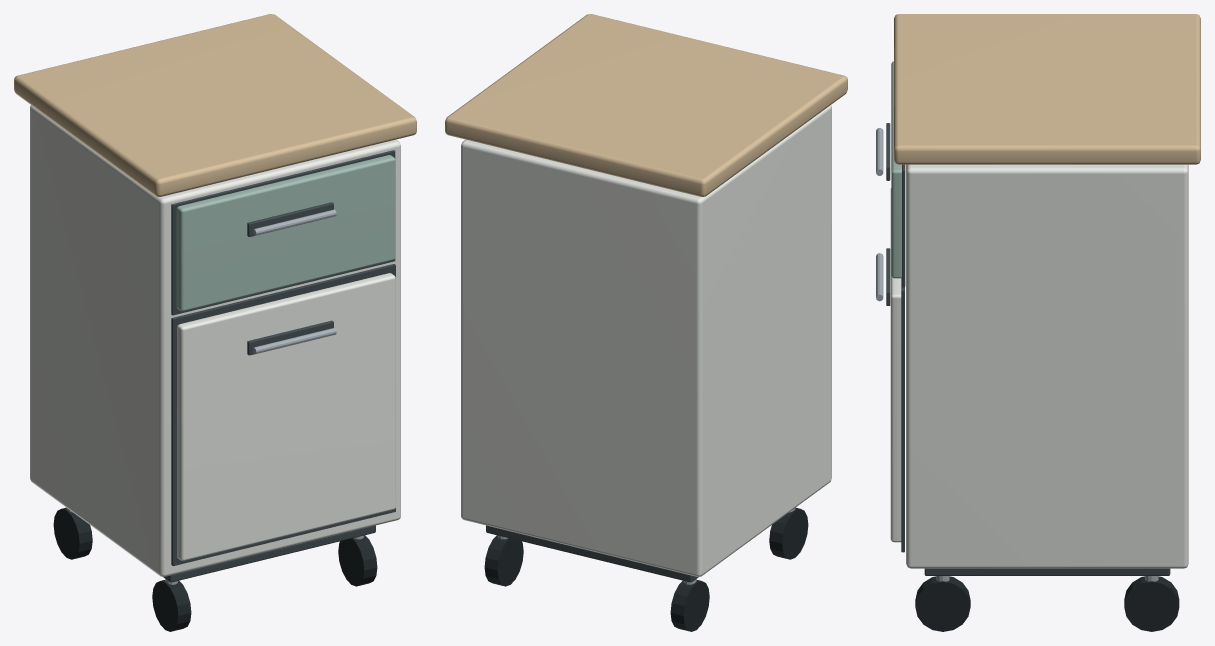
The model's file is bedside_cabinet.fbx.
3 renders of one model, left to right at view 1: azimuth 30°, elevation 25°; view 2: azimuth 150°, elevation 25°; view 3: azimuth 270°, elevation 25°, orthographic. The views are drawn at different scales.
Visible parts, largest first — view 1: EQ_bedside_cabinet_M_Ivory, EQ_bedside_cabinet_M_Oak, EQ_bedside_cabinet_M_Sage, EQ_bedside_cabinet_M_PlasticGrey, EQ_bedside_cabinet_M_RubberBlack, EQ_bedside_cabinet_M_SteelBrushed; view 2: EQ_bedside_cabinet_M_Ivory, EQ_bedside_cabinet_M_Oak, EQ_bedside_cabinet_M_RubberBlack, EQ_bedside_cabinet_M_PlasticGrey; view 3: EQ_bedside_cabinet_M_Ivory, EQ_bedside_cabinet_M_Oak, EQ_bedside_cabinet_M_RubberBlack, EQ_bedside_cabinet_M_PlasticGrey, EQ_bedside_cabinet_M_Sage, EQ_bedside_cabinet_M_SteelBrushed.
Part boxes in pixels (x1,y1,x2,y2): EQ_bedside_cabinet_M_Ivory: [30, 105, 400, 576]; EQ_bedside_cabinet_M_Oak: [14, 14, 416, 196]; EQ_bedside_cabinet_M_Sage: [176, 155, 395, 311]; EQ_bedside_cabinet_M_PlasticGrey: [163, 150, 395, 582]; EQ_bedside_cabinet_M_RubberBlack: [53, 507, 377, 631]; EQ_bedside_cabinet_M_SteelBrushed: [66, 209, 364, 584]; EQ_bedside_cabinet_M_Ivory: [461, 105, 831, 576]; EQ_bedside_cabinet_M_Oak: [445, 14, 847, 196]; EQ_bedside_cabinet_M_RubberBlack: [484, 507, 808, 631]; EQ_bedside_cabinet_M_PlasticGrey: [486, 525, 698, 582]; EQ_bedside_cabinet_M_Ivory: [890, 164, 1188, 568]; EQ_bedside_cabinet_M_Oak: [894, 14, 1200, 164]; EQ_bedside_cabinet_M_RubberBlack: [915, 576, 1179, 631]; EQ_bedside_cabinet_M_PlasticGrey: [886, 123, 1170, 575]; EQ_bedside_cabinet_M_Sage: [891, 61, 901, 278]; EQ_bedside_cabinet_M_SteelBrushed: [876, 128, 1158, 581].
Bounding box in the file's own units: 0.52 × 0.9 × 0.529.
